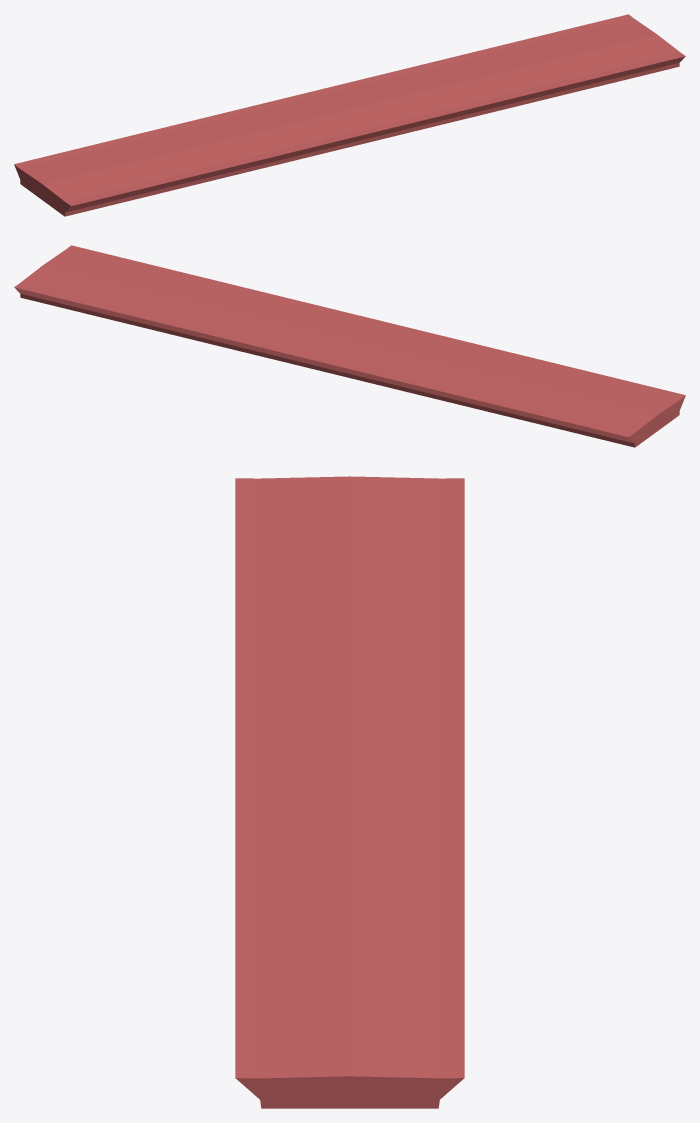
The model's file is bridge1_deck.obj.
3 views of the same model, one above another, from view 1: azimuth 30°, elevation 25°; view 2: azimuth 150°, elevation 25°; view 3: azimuth 270°, elevation 25° (orthographic). The views are drawn at different scales.
Parts seen in each view (by area): view 1: mesh_0; view 2: mesh_0; view 3: mesh_0.
Part boxes in pixels (<box>): mesh_0: <box>14,14,685,216</box>; mesh_0: <box>14,245,685,447</box>; mesh_0: <box>235,476,464,1108</box>.
Bounding box in the file's own units: 120 × 3 × 19.4.
